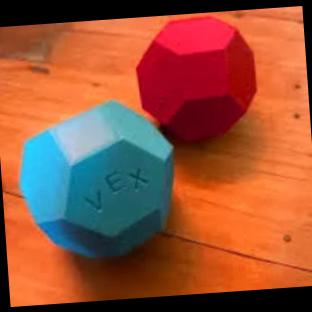V5_BLUE: (19, 100, 171, 257)
V5_RED: (136, 16, 255, 140)
